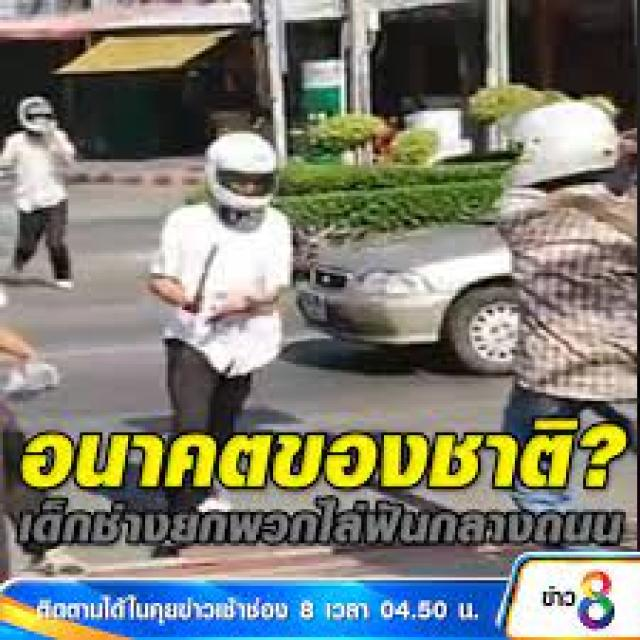helmet: (490, 96, 627, 195), (200, 130, 292, 224), (11, 90, 72, 138)
knife: (181, 240, 230, 330)
